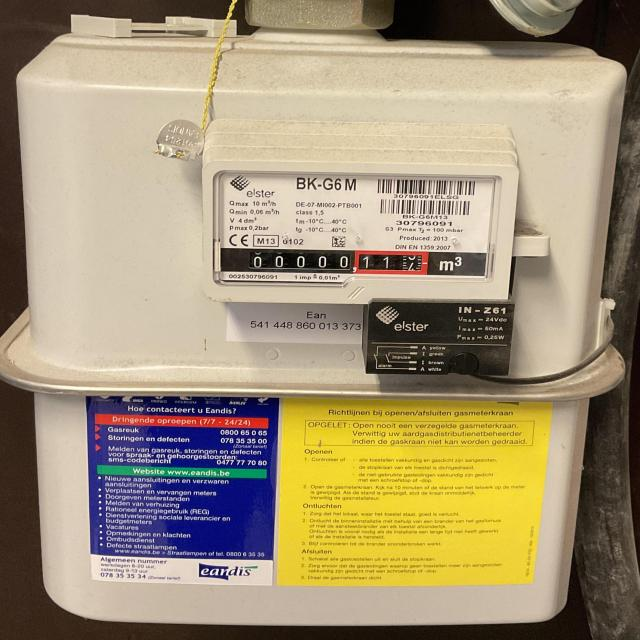gaz_meter: (213, 172, 488, 284)
indication: (241, 249, 432, 274)
